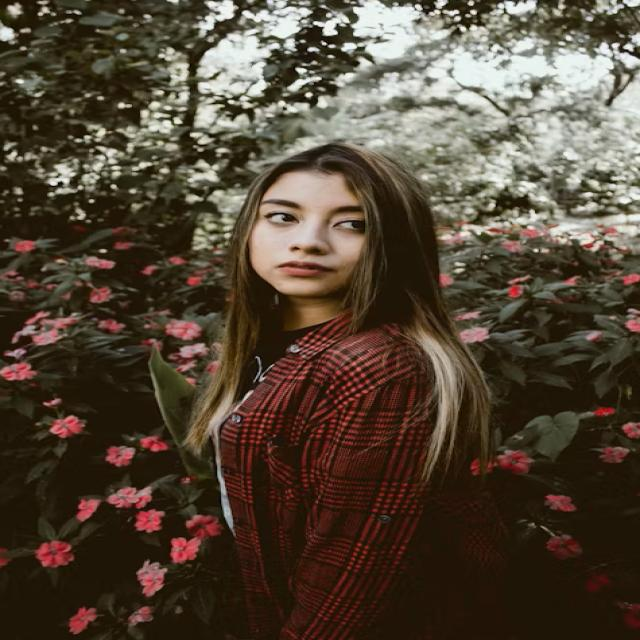Edited images: (169, 128, 545, 640)
